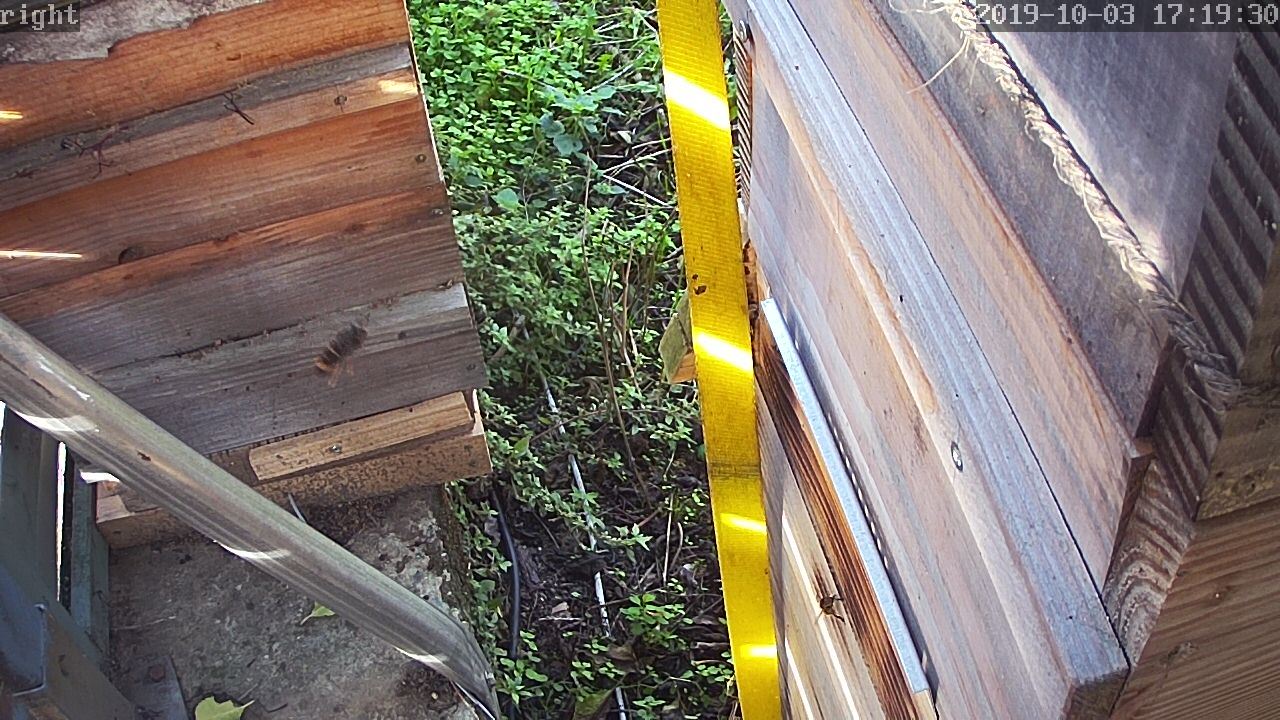bee: (803, 588, 851, 626)
hornet: (314, 316, 376, 382)
